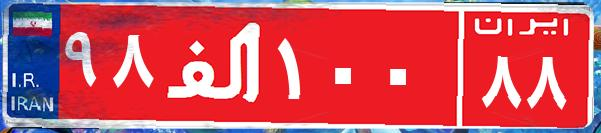0: (385, 28, 445, 110), (330, 28, 385, 110)
1: (273, 28, 330, 110)
8: (475, 38, 525, 113), (110, 28, 158, 105), (525, 38, 570, 115)
9: (57, 26, 110, 107)
الف: (158, 15, 273, 115)
